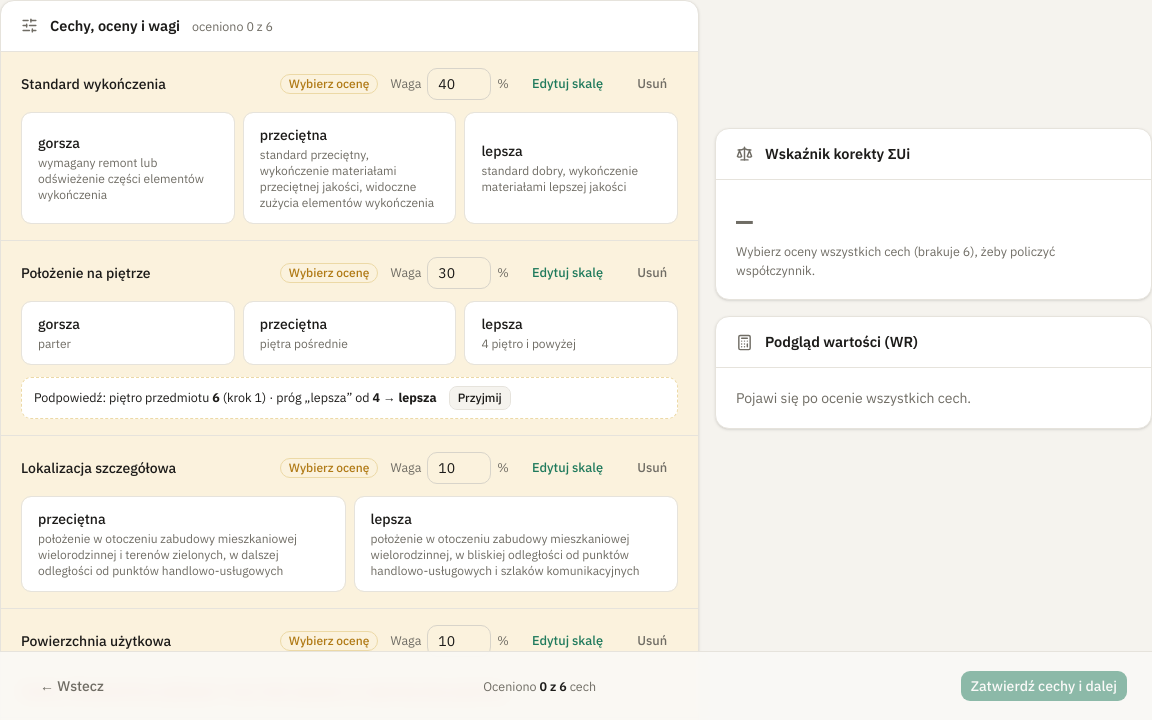
StepFeatures — progi liczbowe i podpowiedź (FH.1, FH.2) › podpowiedź zostaje, gdy ocena różni się od podpowiedzianej, i znika, gdy jest zgodna
Click the radio button labelled "gorsza parter" at (128, 333), box left=21, top=301, right=235, bottom=365
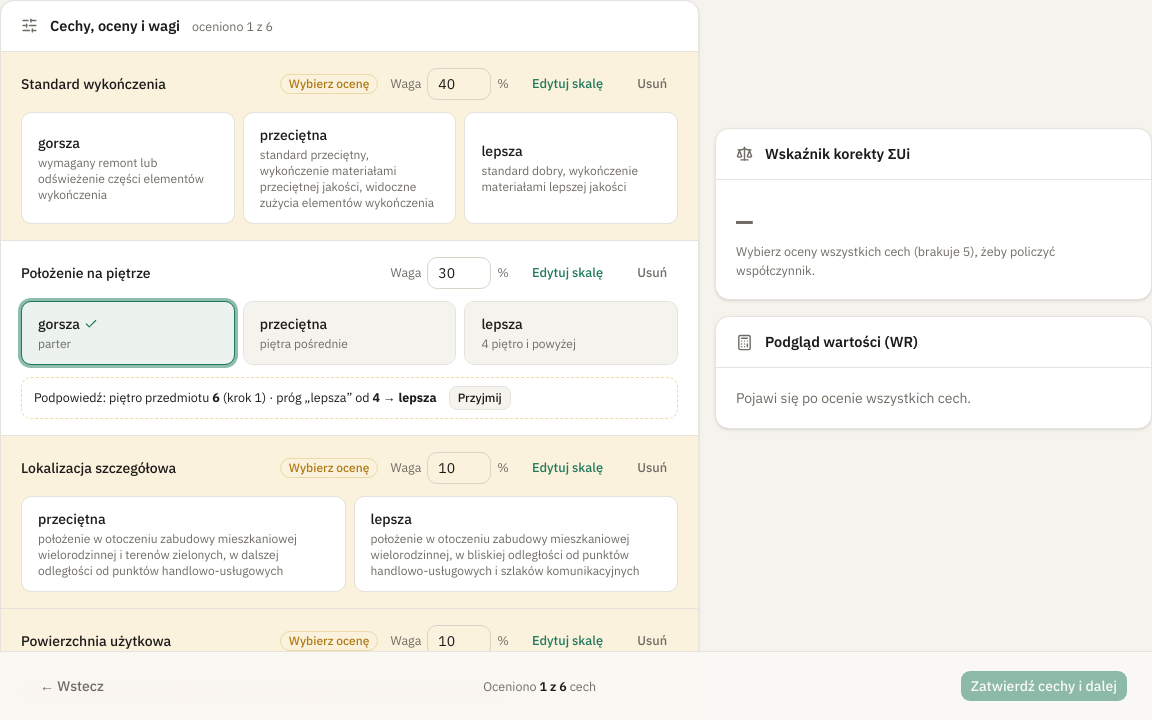
Expected: the element with test id "threshold-hint-polozenie-na-pietrze" is shown, left=21, top=377, right=678, bottom=419
Click the radio button labelled "lepsza 4 piętro i powyżej" at (571, 333), box left=464, top=301, right=678, bottom=365
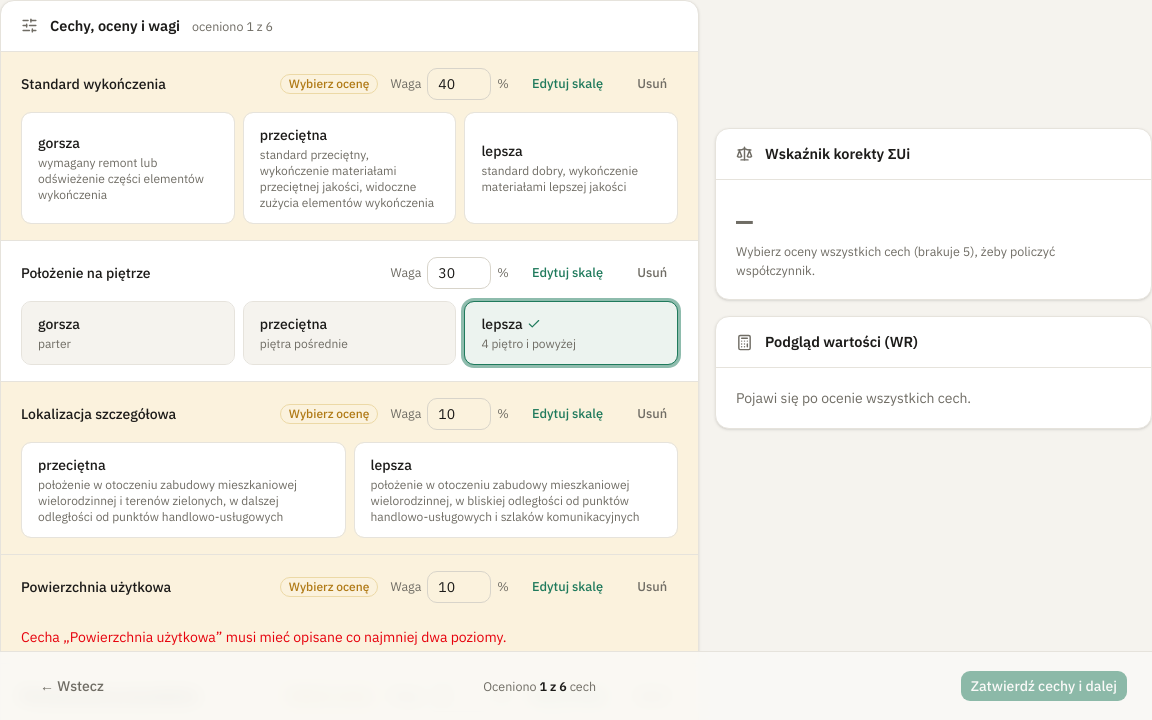
Result: the element with test id "threshold-hint-polozenie-na-pietrze" is gone
